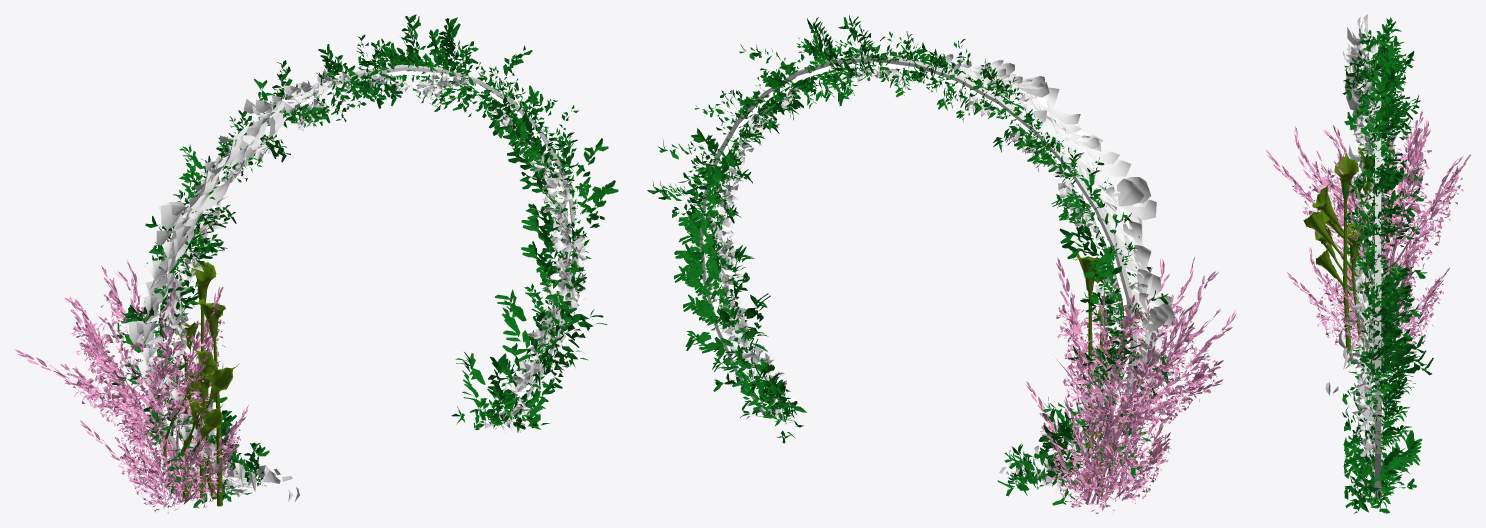
The model's file is wedding_gate.glb.
3 renders of one model, left to right at view 1: azimuth 30°, elevation 25°; view 2: azimuth 150°, elevation 25°; view 3: azimuth 270°, elevation 25°, orthographic. The views are drawn at different scales.
Visible parts, largest first — view 1: Object_8, Object072_gladiolus_white_1_1_2s_0_0, gladiolus_leaves_007_gladiolus_stem_plant_0.001_1, Object_16, object 6, gladiolus_leaves_007_gladiolus_stem_plant_0.002_7, Calla 007_Calla_0_3, Calla 008_Calla_0_4, Circle_8, Circle.001_9; view 2: Object_8, Object_16, gladiolus_leaves_007_gladiolus_stem_plant_0.001_1, object 6, Object072_gladiolus_white_1_1_2s_0_0, gladiolus_leaves_007_gladiolus_stem_plant_0.002_7, Circle_8, Circle.001_9, Calla 007_Calla_0_3; view 3: Object_8, Object_16, gladiolus_leaves_007_gladiolus_stem_plant_0.001_1, Object072_gladiolus_white_1_1_2s_0_0, gladiolus_leaves_007_gladiolus_stem_plant_0.002_7, object 6, Calla 007_Calla_0_3, Circle_8, Calla 008_Calla_0_4.
Part boxes in pixels (x1,y1,x2,y2): Object_8: (111,16,618,507); Object072_gladiolus_white_1_1_2s_0_0: (155,71,587,498); gladiolus_leaves_007_gladiolus_stem_plant_0.001_1: (15,252,225,504); Object_16: (122,14,603,495); object 6: (125,69,357,502); gladiolus_leaves_007_gladiolus_stem_plant_0.002_7: (80,363,248,513); Calla 007_Calla_0_3: (177,259,225,506); Calla 008_Calla_0_4: (163,344,238,469); Circle_8: (147,64,576,487); Circle.001_9: (152,70,572,478); Object_8: (647,17,1174,505); Object_16: (674,15,1143,489); gladiolus_leaves_007_gladiolus_stem_plant_0.001_1: (1055,256,1236,505); object 6: (935,54,1174,462); Object072_gladiolus_white_1_1_2s_0_0: (698,53,1137,493); gladiolus_leaves_007_gladiolus_stem_plant_0.002_7: (1026,378,1176,513); Circle_8: (699,56,1136,489); Circle.001_9: (703,61,1130,484); Calla 007_Calla_0_3: (1073,253,1118,496); Object_8: (1342,21,1433,508); Object_16: (1352,17,1422,513); gladiolus_leaves_007_gladiolus_stem_plant_0.001_1: (1266,110,1470,355); Object072_gladiolus_white_1_1_2s_0_0: (1349,60,1388,500); gladiolus_leaves_007_gladiolus_stem_plant_0.002_7: (1287,233,1449,356); object 6: (1325,14,1379,395); Calla 007_Calla_0_3: (1334,141,1391,355); Circle_8: (1375,55,1381,500); Calla 008_Calla_0_4: (1303,183,1364,303).
Bounding box in the file's own units: 1.85 × 1.29 × 0.6042.
